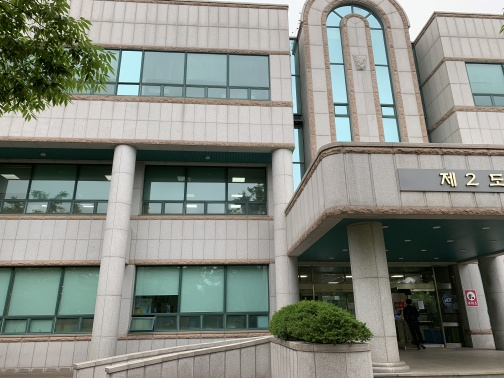Second Library: (192, 12, 503, 374)
